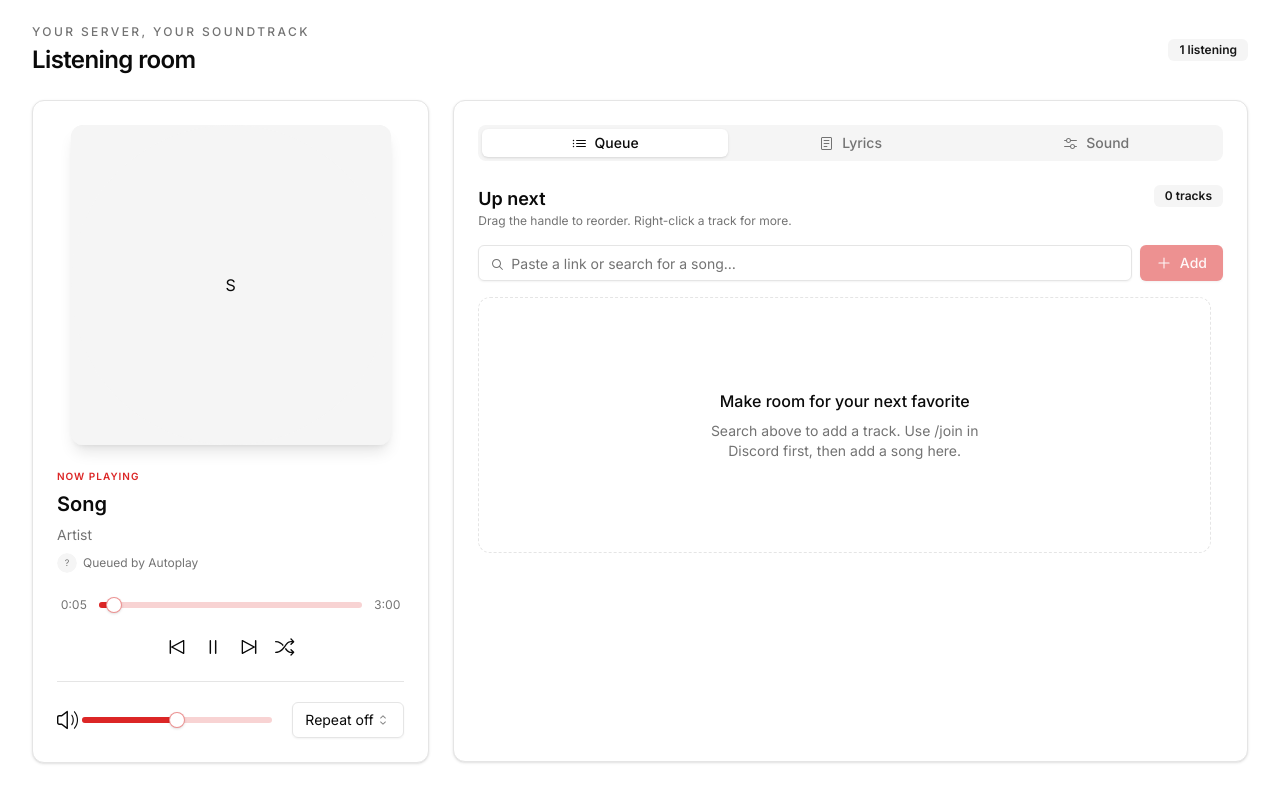
Test: keeps the selected version when switching Queue/Lyrics, and resets only for a new track
Click the tab "Lyrics": (851, 143) x1=728 y1=129 x2=974 y2=157
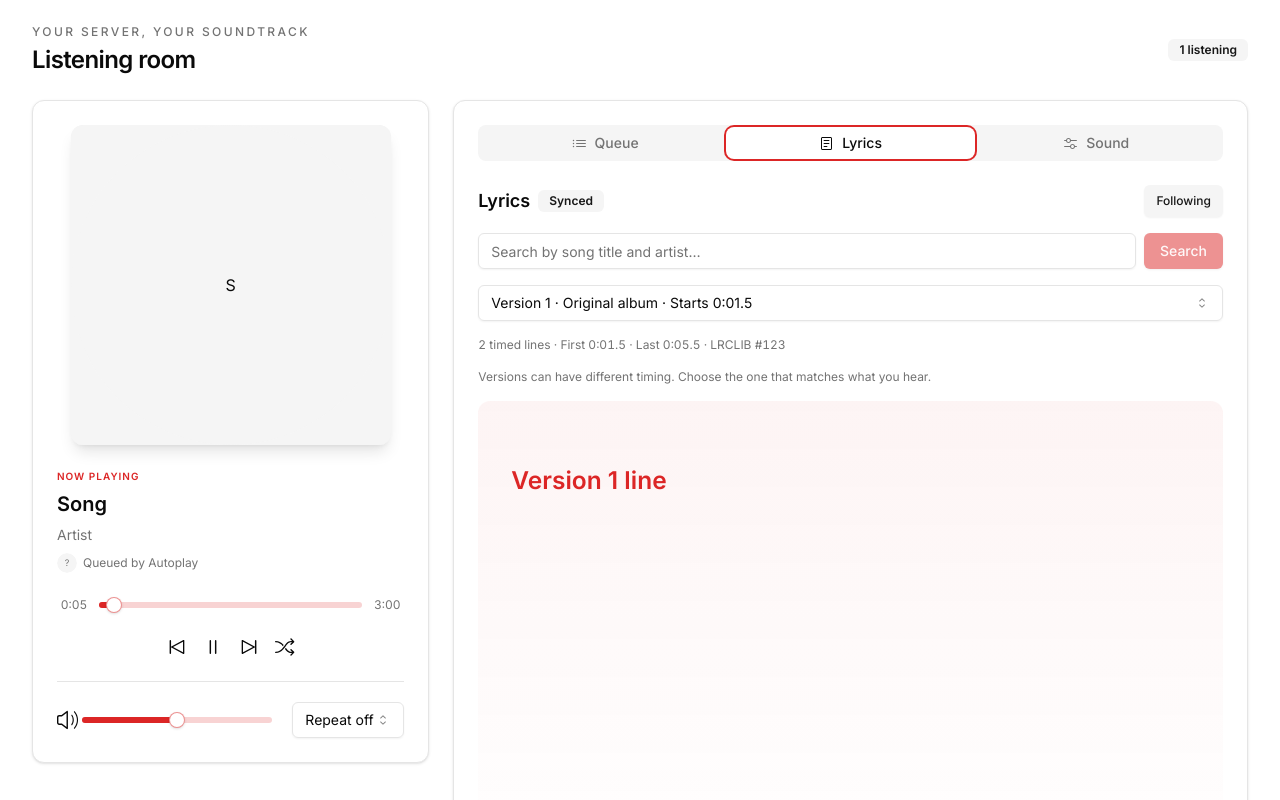
Click the dropdown named "Lyric match": (622, 302) x1=478 y1=285 x2=1223 y2=321
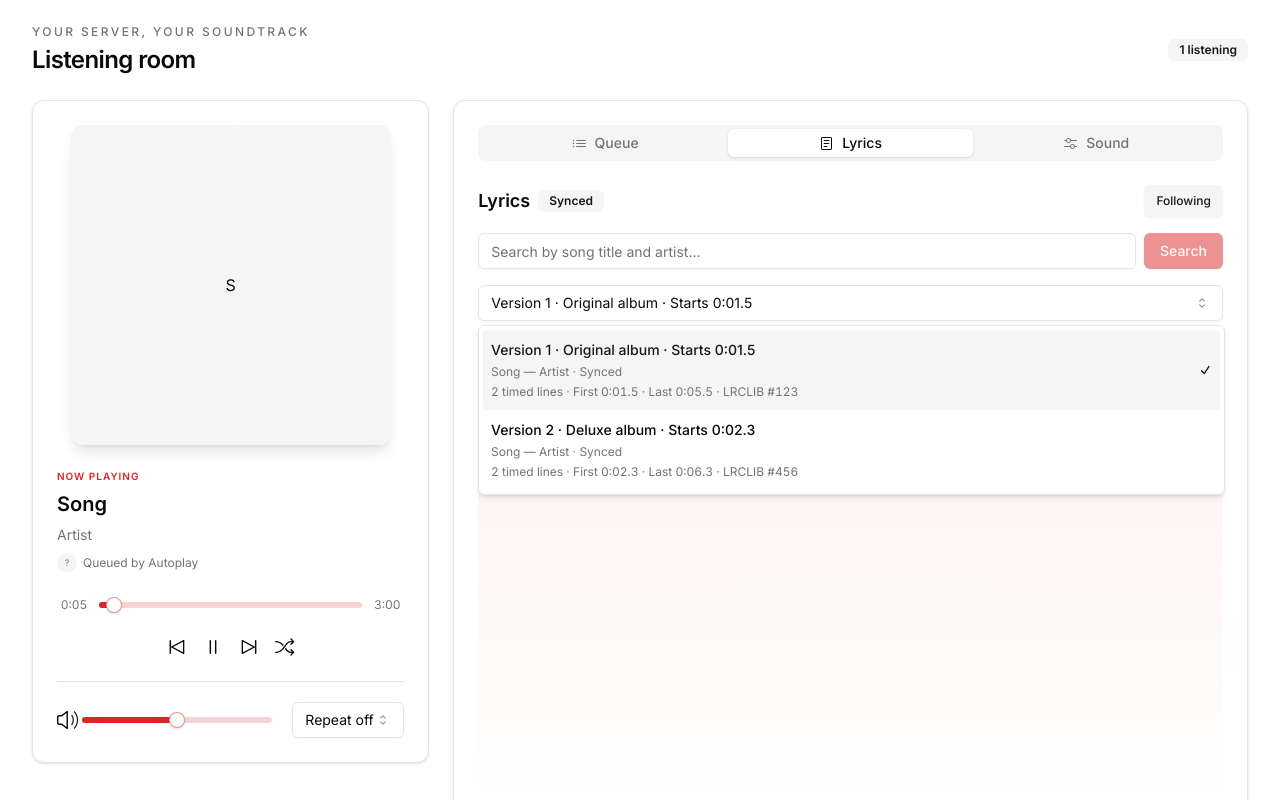
Result: the 1st option is shown at x1=483 y1=330 x2=1220 y2=410
Result: the option that starts with "Version 2 · Deluxe album · Starts 0:02.3" is shown
Click the option that starts with "Version 2 · Deluxe album · Starts 0:02.3": (623, 430) x1=491 y1=421 x2=798 y2=479
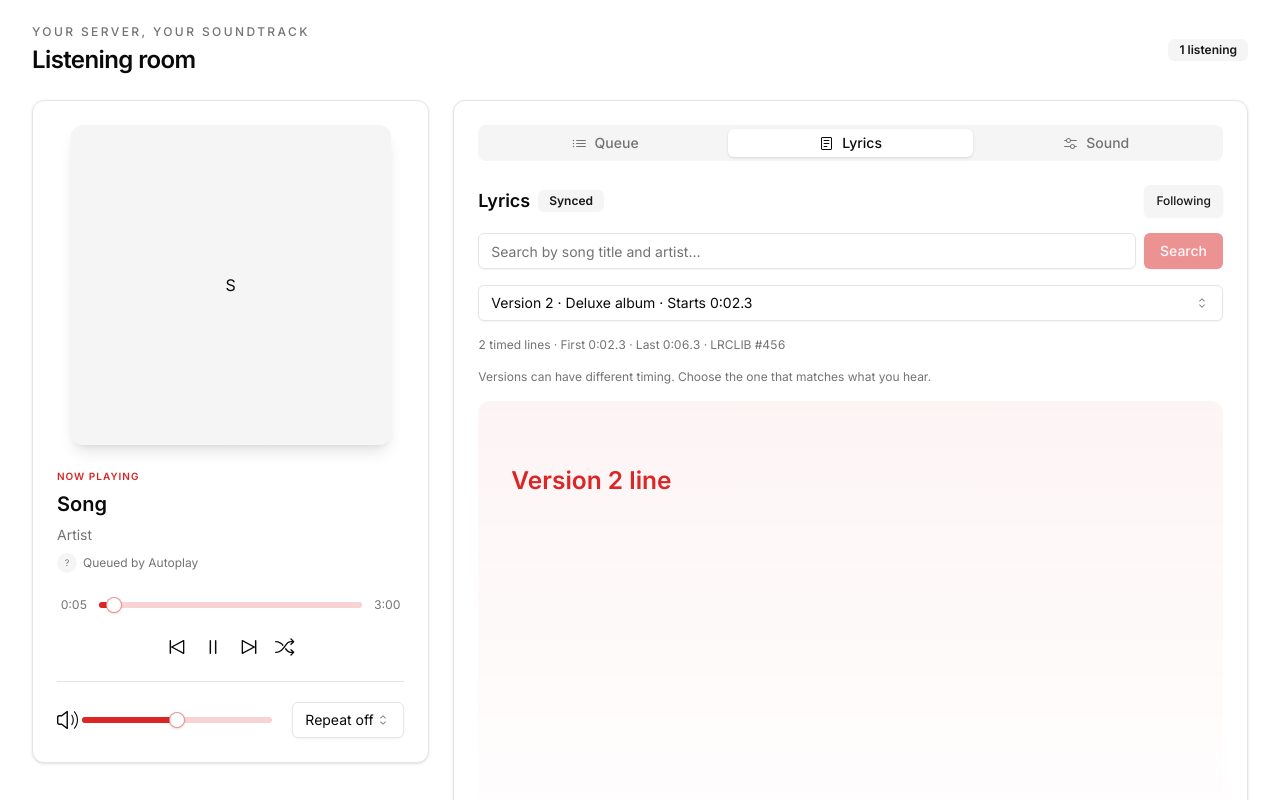
Click the tab "Queue": (605, 143) x1=482 y1=129 x2=728 y2=157
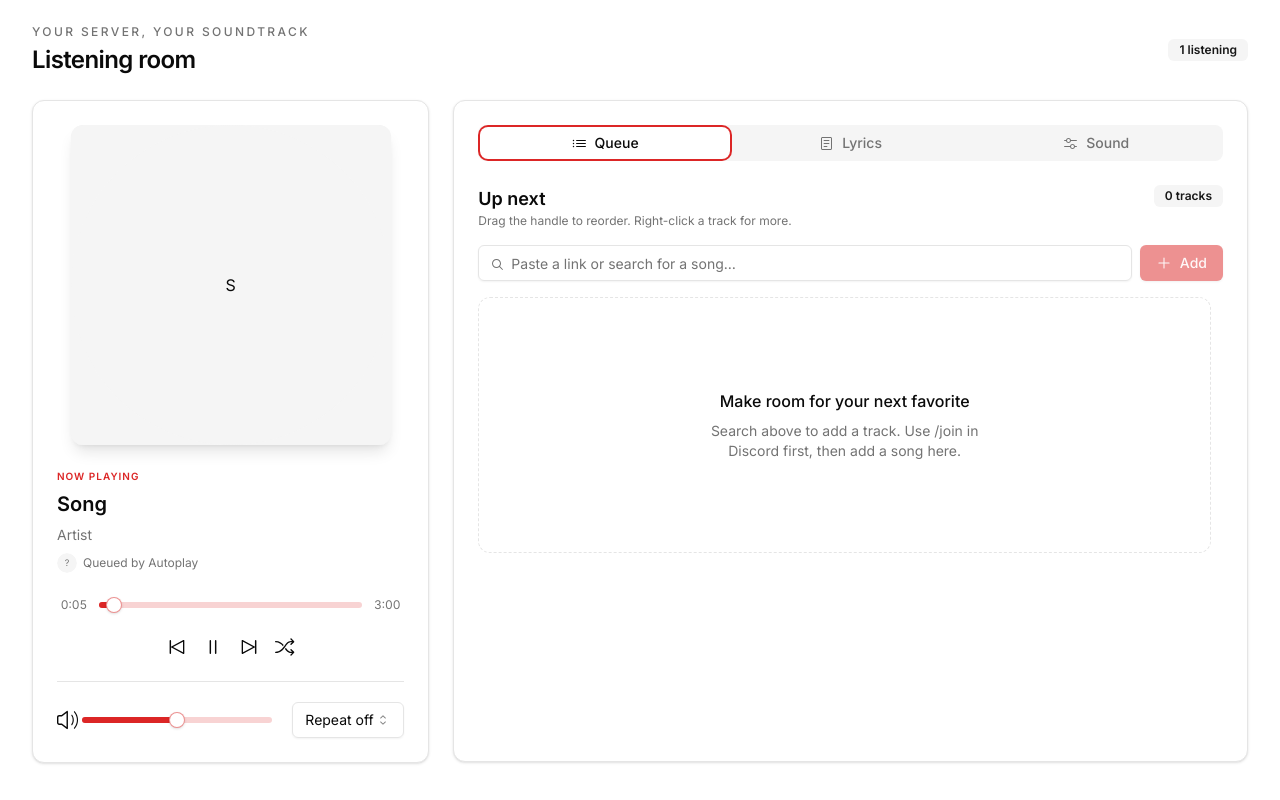
Click the tab "Lyrics": (851, 143) x1=728 y1=129 x2=974 y2=157
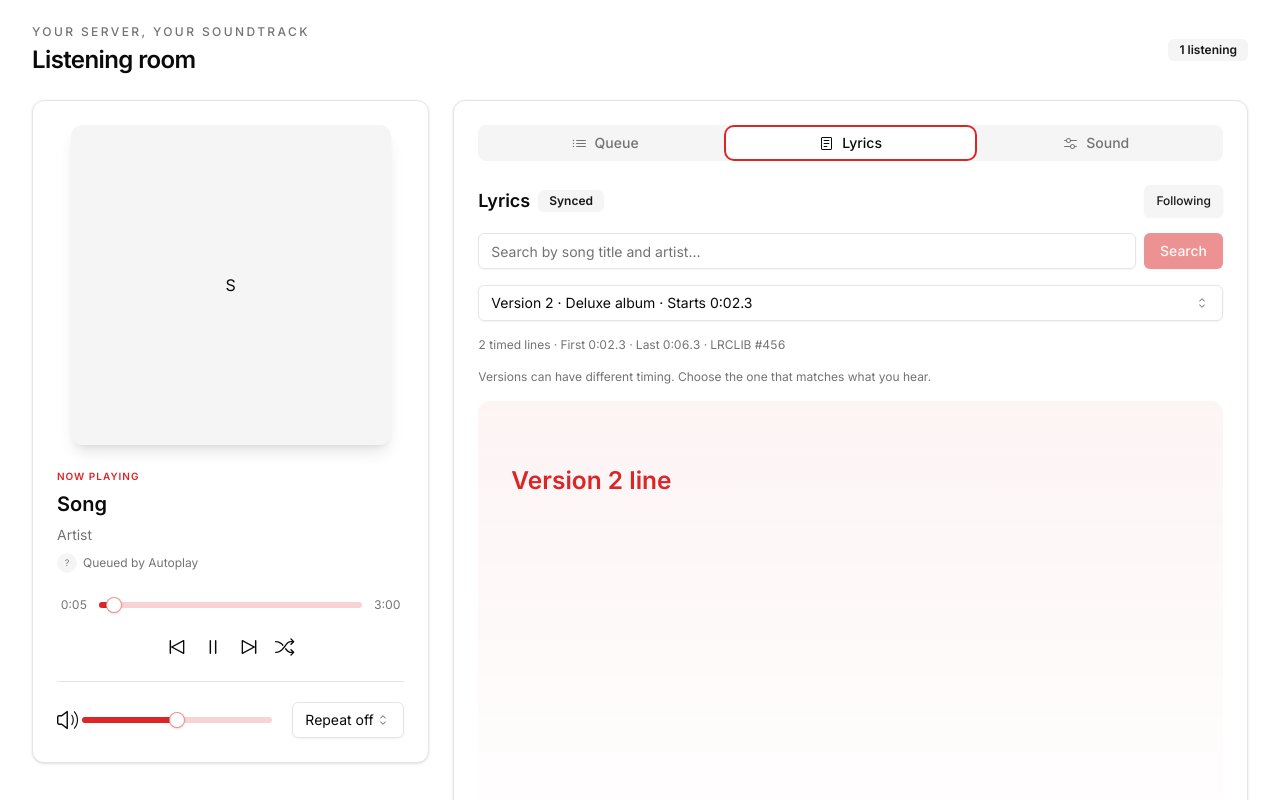
Result: the dropdown named "Lyric match" shows "Version 2" at x1=478 y1=285 x2=1223 y2=321
Result: the button "Version 2 line" is shown at x1=512 y1=465 x2=1190 y2=497
Result: the text "2 timed lines · First 0:02.3 · Last 0:06.3 · LRCLIB #456" is shown at x1=478 y1=337 x2=786 y2=352
